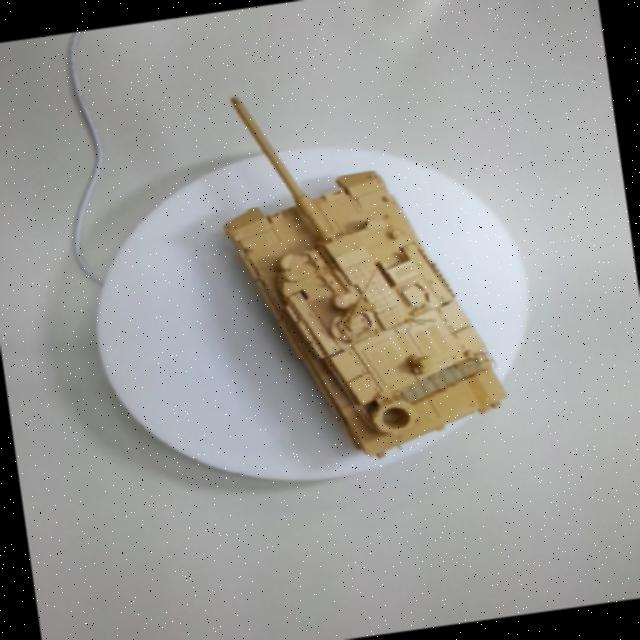korea tank: (169, 58, 541, 521)
